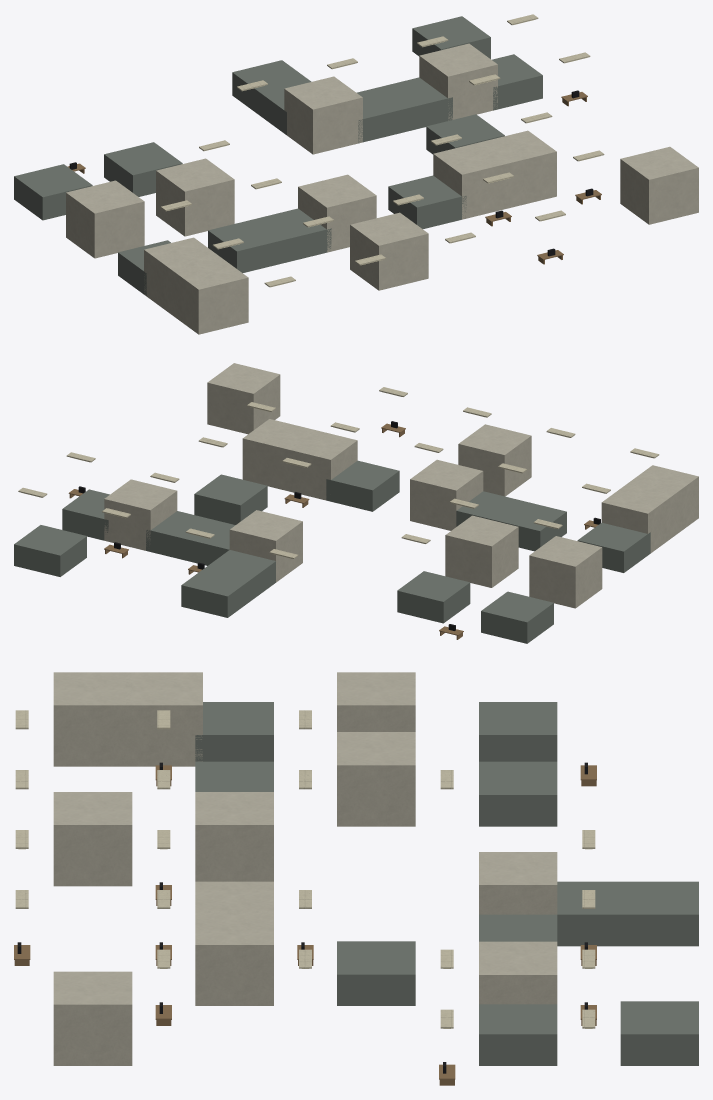
Rendered from level4_walls_1_2.obj.
3 renders of one model, top to bottom at view 1: azimuth 30°, elevation 25°; view 2: azimuth 150°, elevation 25°; view 3: azimuth 270°, elevation 25°, orthographic. The views are drawn at different scales.
Bounding box in the file's own units: 38.5 × 3.1 × 31.42.
6 materials, 2 textured.
